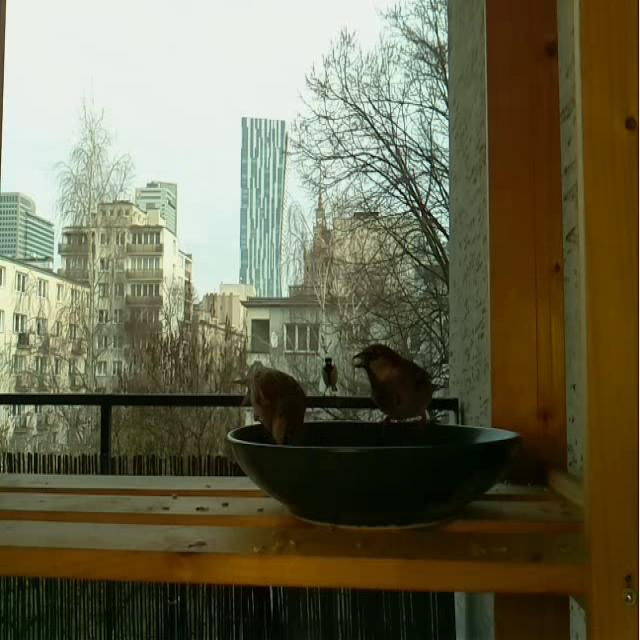Wrobel: (350, 341, 438, 427), (247, 358, 307, 446)
